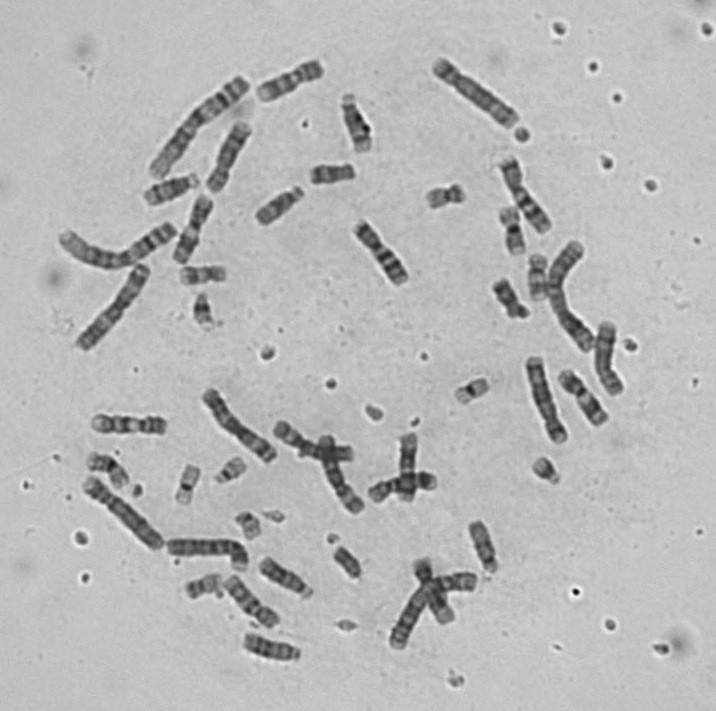chromosomes: (144, 75, 254, 181), (384, 570, 481, 654), (66, 262, 152, 354), (194, 383, 285, 469), (79, 471, 171, 553), (433, 54, 524, 134), (54, 220, 184, 275), (491, 150, 560, 239), (546, 241, 595, 361), (515, 348, 573, 446), (350, 216, 415, 292), (271, 418, 361, 469), (315, 435, 368, 516), (204, 119, 256, 195), (171, 192, 223, 267), (556, 365, 613, 433), (408, 553, 458, 629), (254, 59, 333, 106), (593, 316, 632, 408), (229, 574, 287, 635), (166, 534, 250, 576), (137, 166, 206, 210), (257, 555, 322, 600), (84, 408, 171, 441), (365, 470, 443, 505), (337, 92, 378, 157), (253, 180, 308, 227), (236, 631, 305, 668), (84, 448, 135, 492), (489, 277, 537, 323), (393, 429, 420, 510), (496, 200, 532, 260), (467, 520, 503, 579), (526, 250, 556, 310), (174, 262, 233, 292), (175, 459, 205, 510), (301, 162, 362, 187), (449, 373, 493, 407), (329, 545, 366, 585), (211, 456, 251, 491), (178, 576, 229, 602), (427, 182, 468, 214), (532, 452, 566, 490), (191, 294, 221, 335), (234, 510, 266, 542)
